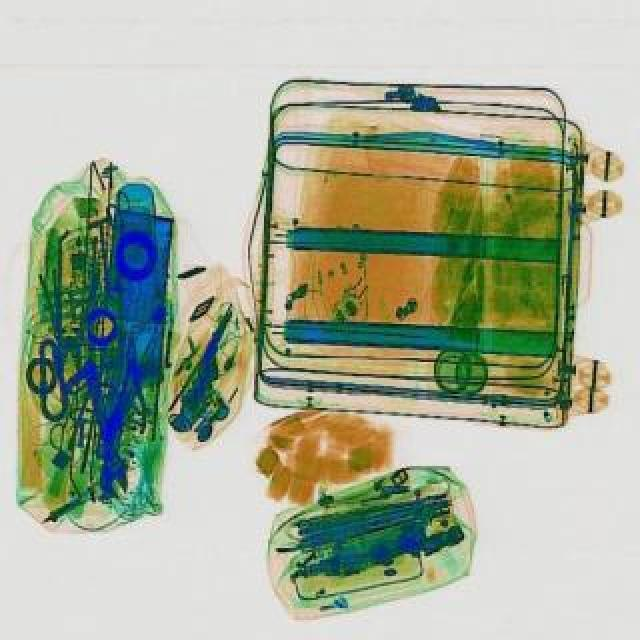scissors: (70, 356, 130, 500)
wrench: (114, 326, 146, 432)
